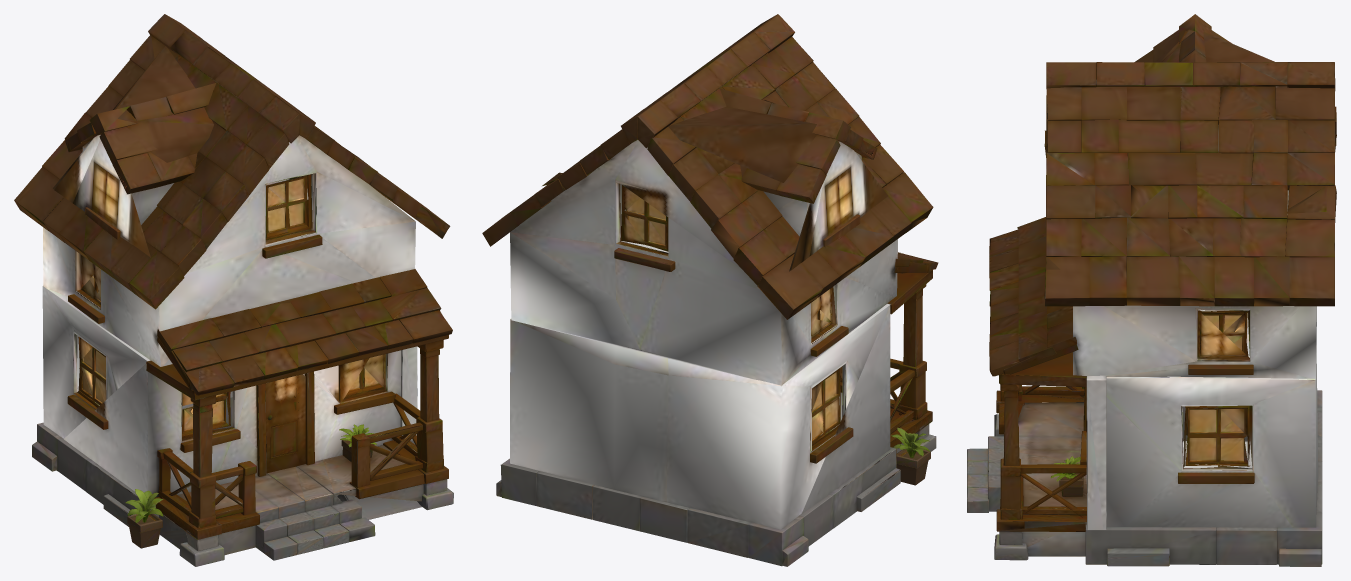
Rendered from house_white_tall.glb.
The picture shows the model from 3 angles, left to right: view 1: azimuth 30°, elevation 25°; view 2: azimuth 150°, elevation 25°; view 3: azimuth 270°, elevation 25°; orthographic projection. The views are drawn at different scales.
Parts seen in each view (by area): view 1: geometry_0; view 2: geometry_0; view 3: geometry_0.
Boxes of the visible parts, x1,y1,x2,y2 form: geometry_0: (14,14,453,566); geometry_0: (482,14,938,566); geometry_0: (967,14,1336,566).
Bounding box in the file's own units: 0.751 × 0.9526 × 0.7393.
1 material, 1 textured.
